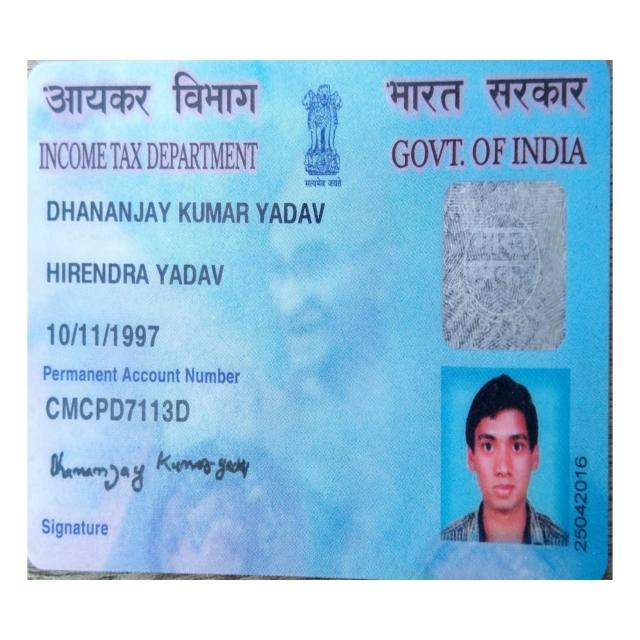pan_card: (30, 63, 603, 576)
